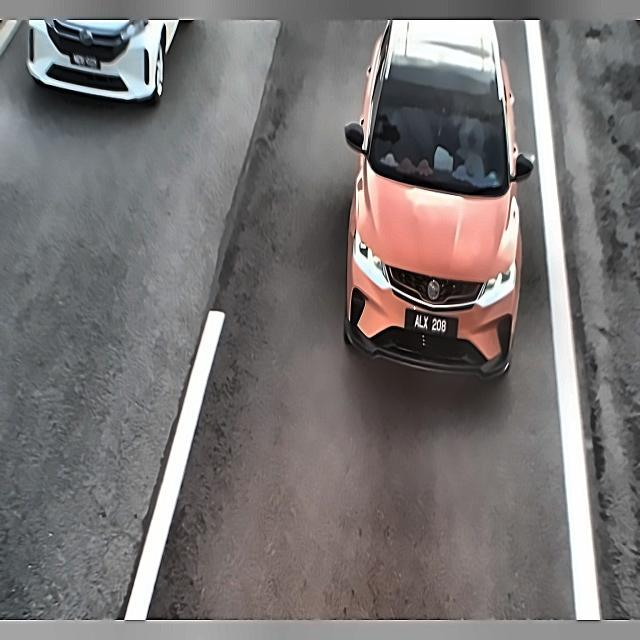car: (408, 301, 455, 348), (61, 48, 111, 81)
